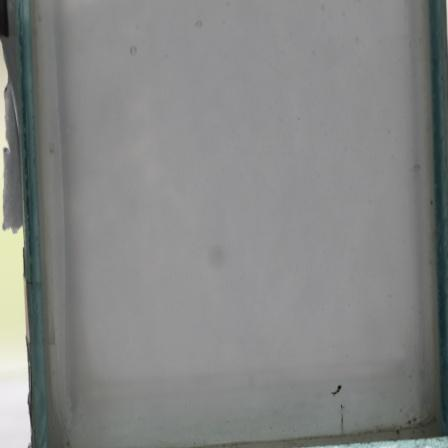Jentik-Nyamuk: (327, 381, 347, 398)
